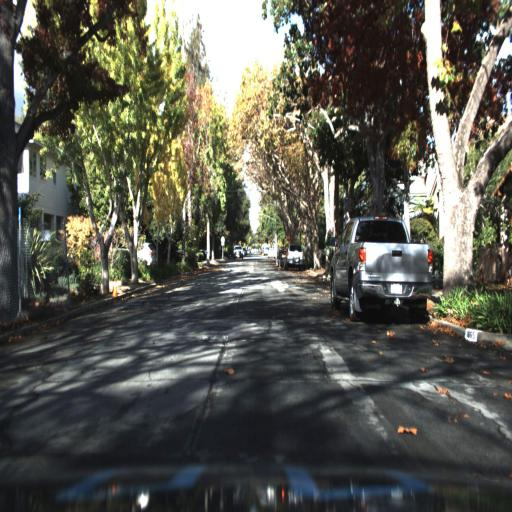car: (321, 202, 440, 337), (323, 211, 432, 324), (285, 243, 305, 272), (287, 245, 308, 271), (276, 250, 289, 266)
